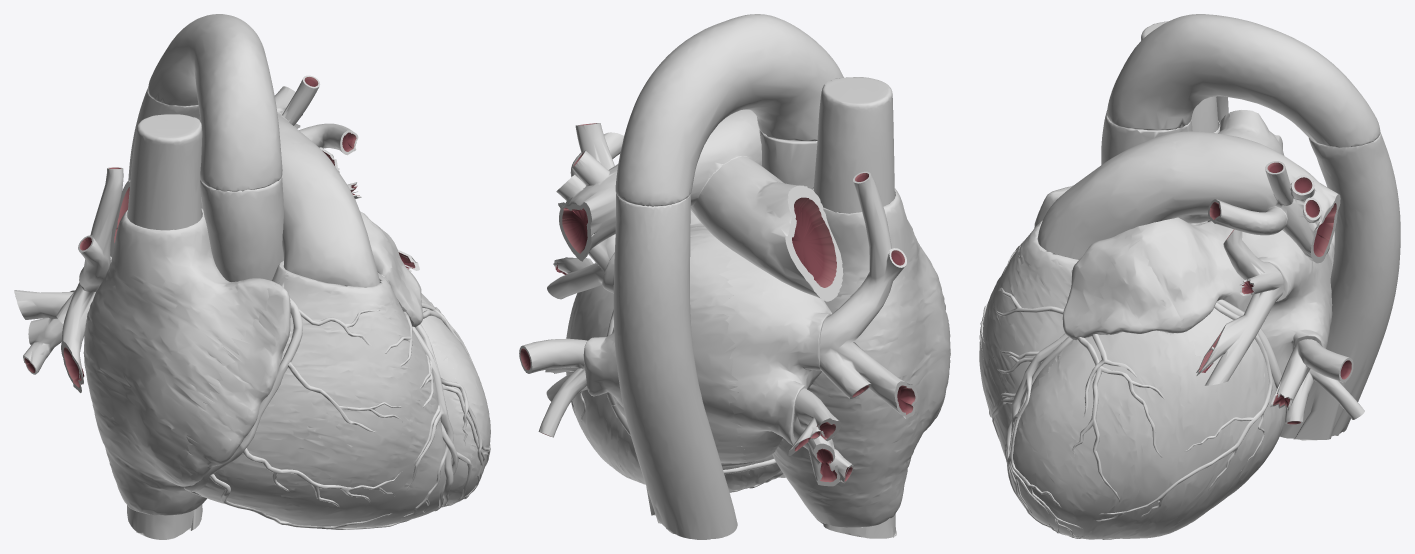
The model's file is heart.glb.
3 views of the same model, side by side, from view 1: azimuth 30°, elevation 25°; view 2: azimuth 150°, elevation 25°; view 3: azimuth 270°, elevation 25° (orthographic). The views are drawn at different scales.
Parts seen in each view (by area): view 1: rightVentricle, rightAtrium, aorta, pulmonaryArtery, venaCava, coronaryArteries, pulmonaryVeins, leftVentricle, cardiacVeins; view 2: aorta, rightAtrium, pulmonaryArtery, pulmonaryVeins, leftAtrium, venaCava, cardiacVeins, coronaryArteries; view 3: leftVentricle, aorta, pulmonaryArtery, leftAtrium, rightVentricle, pulmonaryVeins, coronaryArteries, cardiacVeins, venaCava.
Part boxes in pixels (left/top/right/bottom): rightVentricle: left=179, top=215, right=475, bottom=528; rightAtrium: left=70, top=208, right=288, bottom=515; aorta: left=128, top=14, right=283, bottom=281; pulmonaryArtery: left=110, top=75, right=379, bottom=287; venaCava: left=127, top=114, right=202, bottom=539; coronaryArteries: left=184, top=297, right=490, bottom=529; pulmonaryVeins: left=14, top=147, right=419, bottom=392; leftVentricle: left=367, top=217, right=490, bottom=512; cardiacVeins: left=414, top=302, right=488, bottom=511; aorta: left=613, top=14, right=843, bottom=539; rightAtrium: left=719, top=187, right=950, bottom=527; pulmonaryArtery: left=556, top=109, right=843, bottom=301; pulmonaryVeins: left=519, top=171, right=918, bottom=486; leftAtrium: left=570, top=210, right=754, bottom=491; venaCava: left=813, top=77, right=896, bottom=538; cardiacVeins: left=606, top=327, right=784, bottom=492; coronaryArteries: left=571, top=309, right=785, bottom=477; leftVentricle: left=1010, top=240, right=1245, bottom=539; aorta: left=1101, top=14, right=1400, bottom=440; pulmonaryArtery: left=1037, top=110, right=1340, bottom=263; leftAtrium: left=1125, top=217, right=1332, bottom=489; rightVentricle: left=979, top=188, right=1139, bottom=472; pulmonaryVeins: left=1196, top=96, right=1364, bottom=424; coronaryArteries: left=979, top=240, right=1272, bottom=536; cardiacVeins: left=991, top=299, right=1286, bottom=539; venaCava: left=1141, top=21, right=1218, bottom=132.
Bounding box in the file's own units: 1.2 × 1.55 × 1.29.
